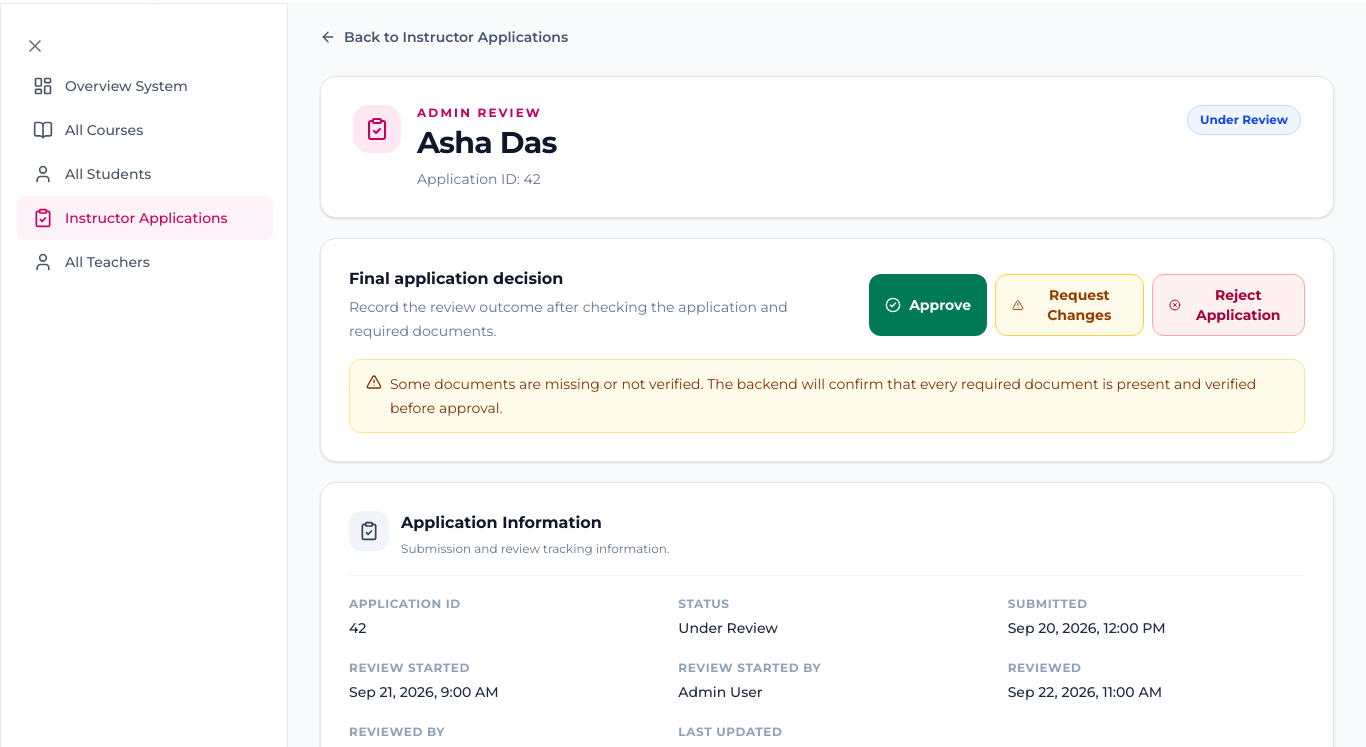
Test: Instructor application review detail › confirms approval is decision-only and updates the page from the response
Click the button "Approve" at (928, 305), box [869,274,987,336]
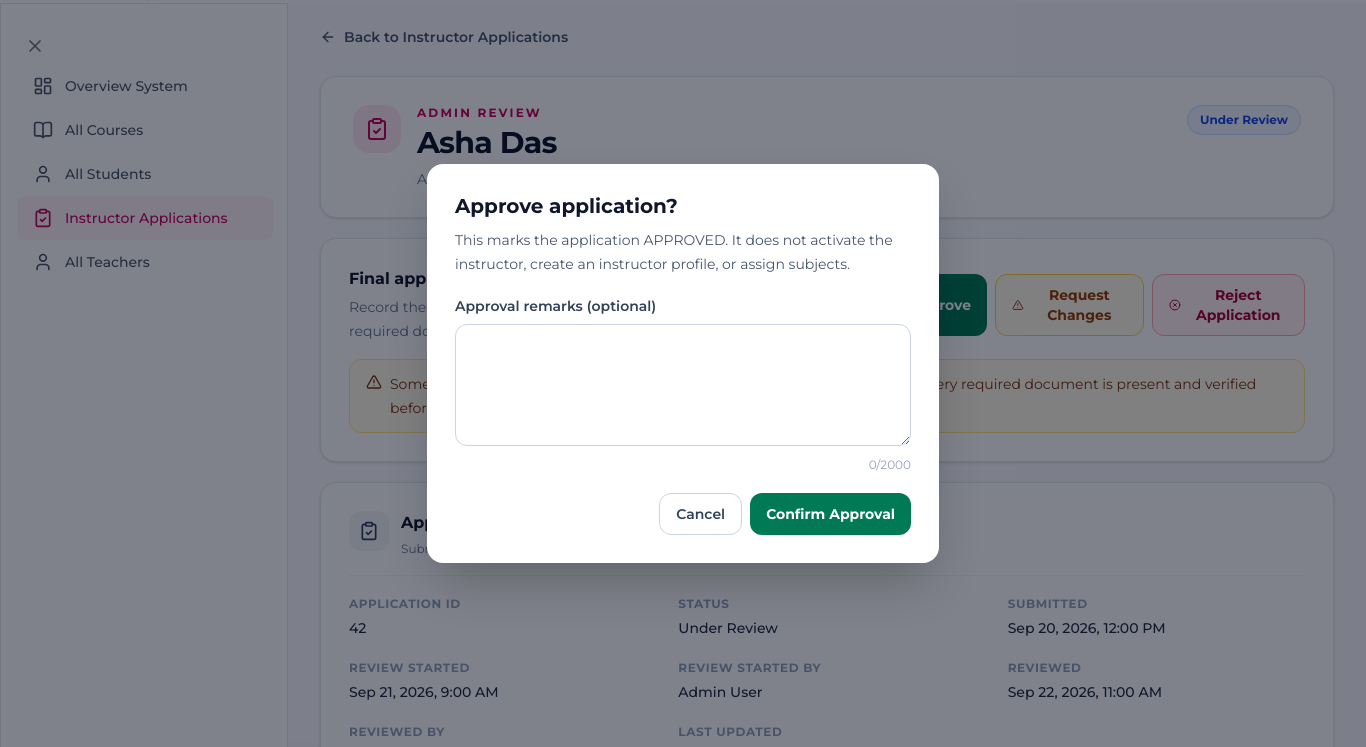
Check: the dialog "Approve application?" shows "does not activate the instructor", box [455,230,893,272]
Type "  Documents verified  " into the text box labelled "Approval remarks (optional)" at (683, 384), box [455,324,911,446]
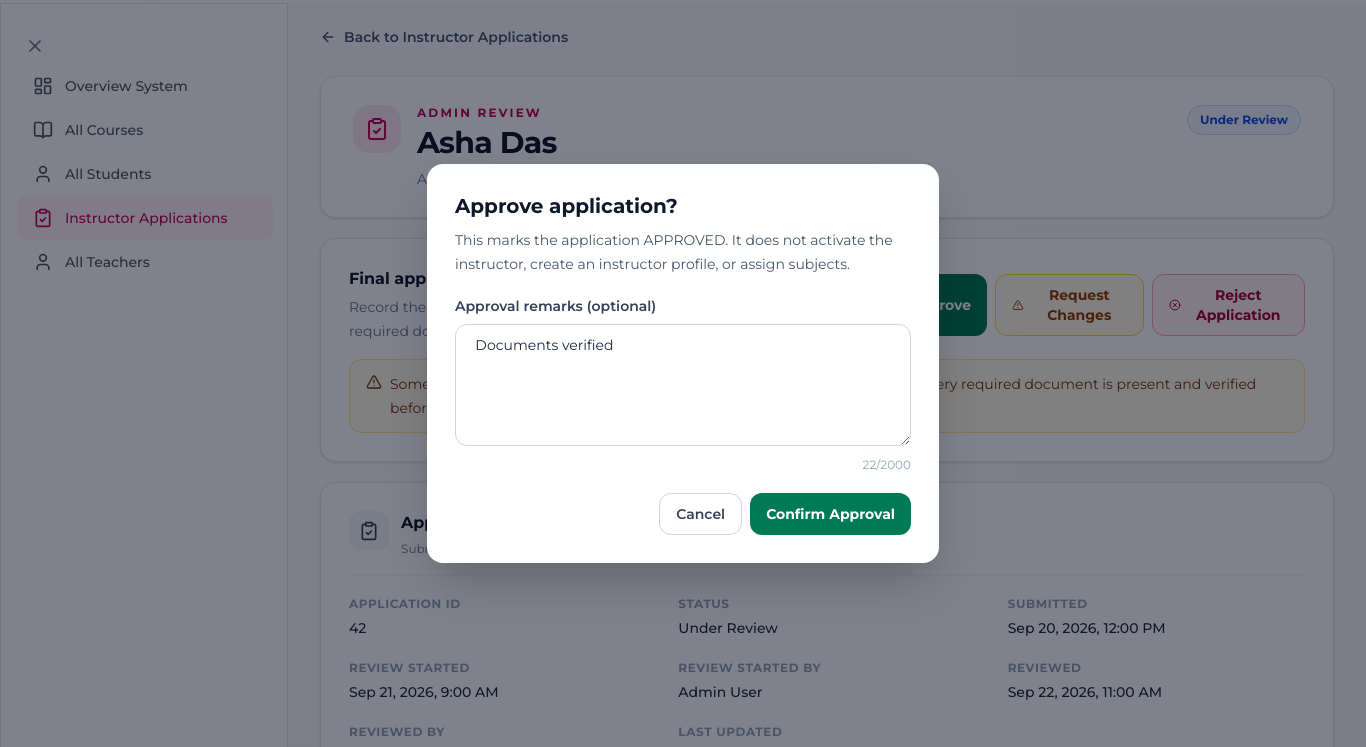
Click the button "Confirm Approval" at (831, 514), box [750,492,911,534]
(page scrolled)
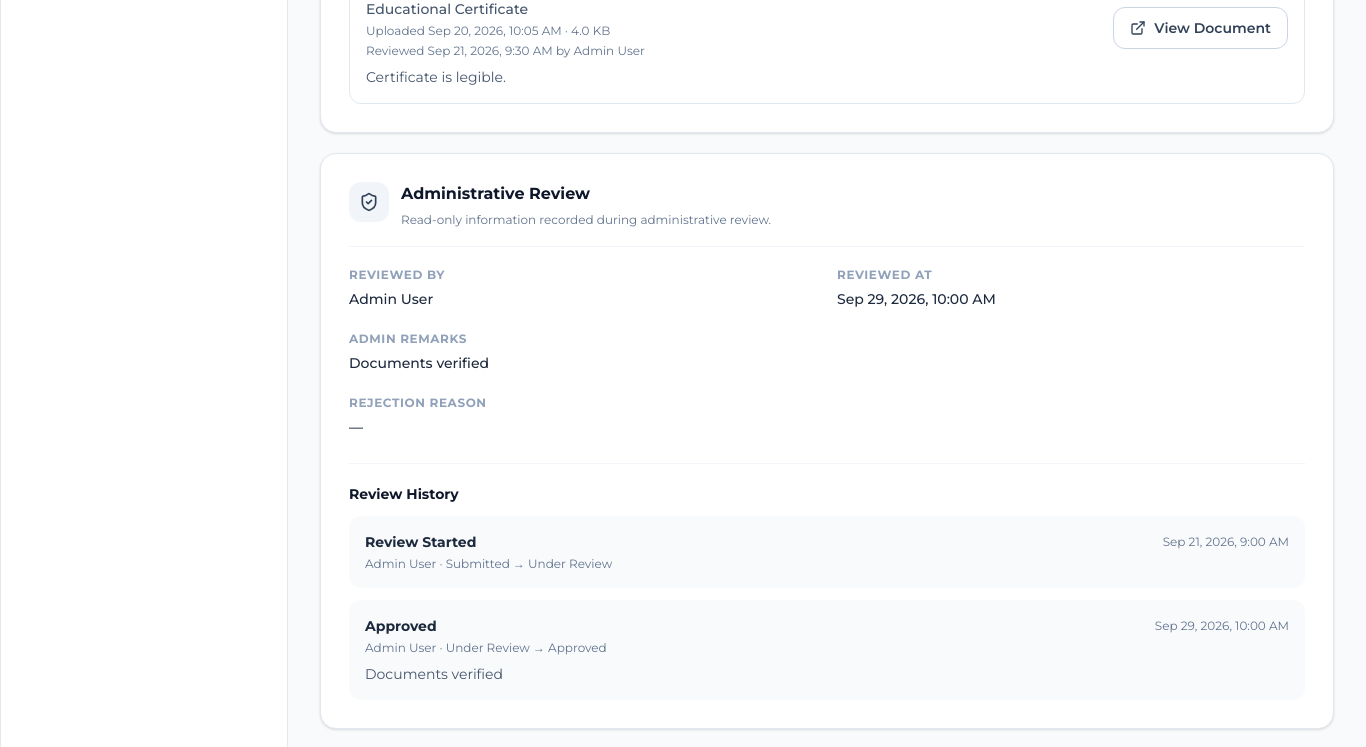
Check: the text "Documents verified" below "Admin Remarks" is shown, box [349,354,489,372]
